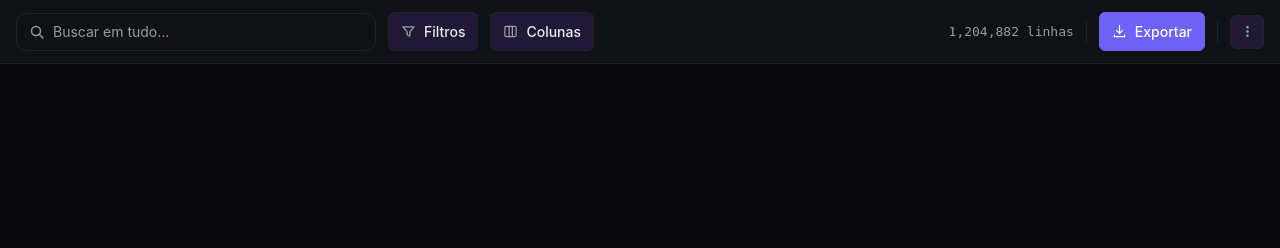
ViewerToolbar › exibe "Nenhuma coluna encontrada" quando a busca do menu não casa com nada
The image size is (1280, 248).
Click the button with class "dropdown__trigger" showing "Colunas" at (542, 32), box [490, 12, 594, 51]
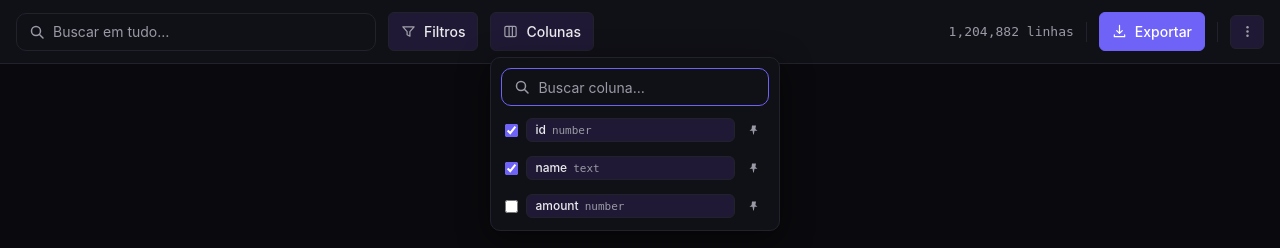
Type "zzz" into the search field with placeholder "Buscar coluna…" at (647, 87), box [538, 69, 756, 105]
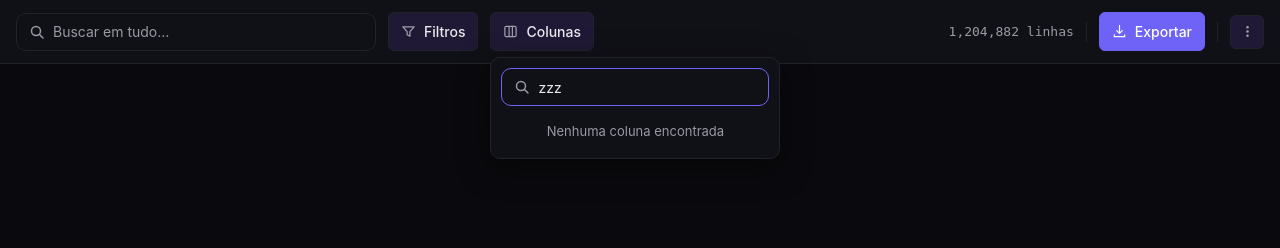
Check: the list item with class "columns-menu__empty" is shown, box [547, 123, 724, 139]
Check: no elements with class "columns-menu__item" are shown
